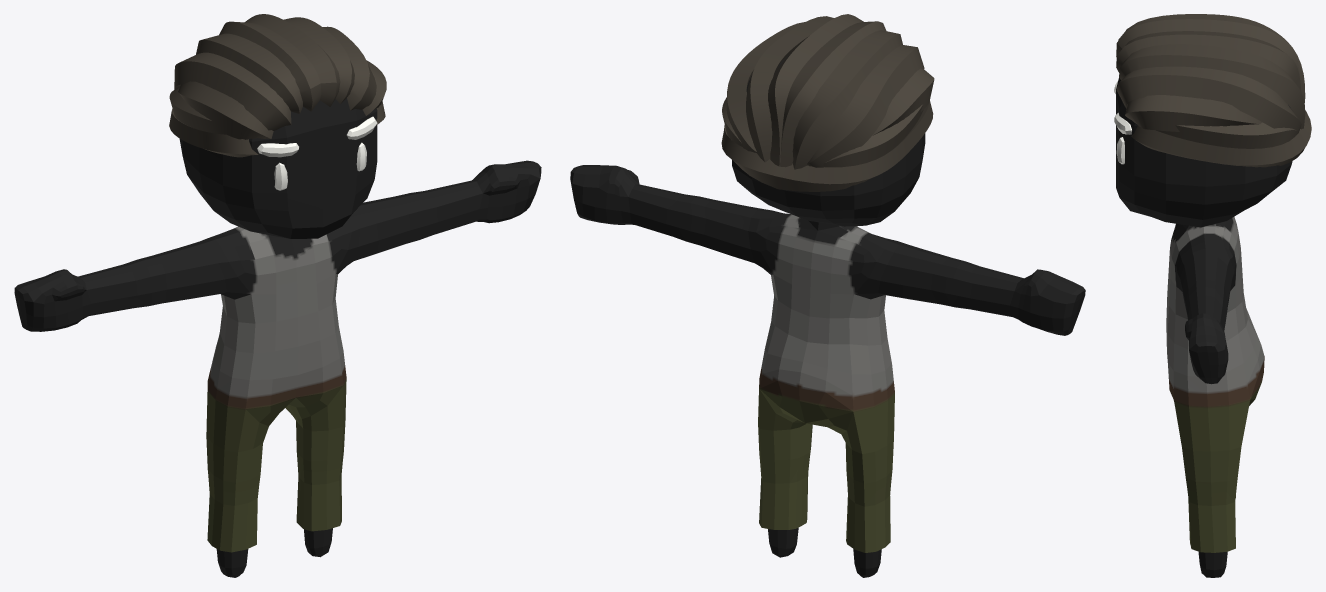
Rendered from Casual3_Male.fbx.
3 views of the same model, side by side, from view 1: azimuth 30°, elevation 25°; view 2: azimuth 150°, elevation 25°; view 3: azimuth 270°, elevation 25° (orthographic). The views are drawn at different scales.
Visible parts, largest first — view 1: Body; view 2: Body; view 3: Body.
Part boxes in pixels (x1,y1,x2,y2): Body: [14, 14, 541, 577]; Body: [570, 14, 1085, 577]; Body: [1114, 14, 1311, 577].
Size of the model in its own units: 324 by 320 by 108.
1 material, 1 textured.
